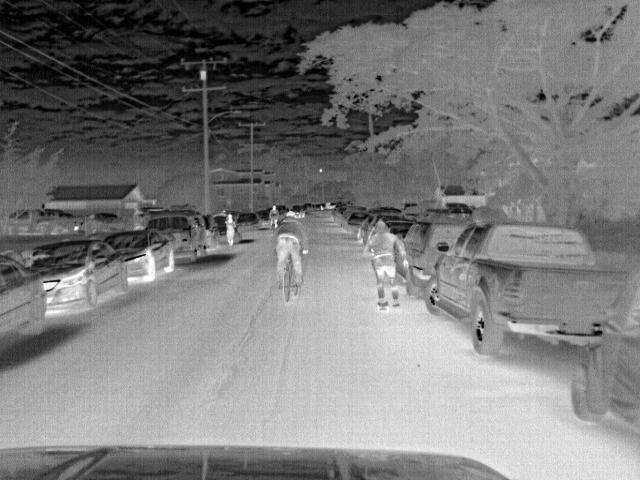car: (427, 224, 634, 355), (571, 301, 637, 436), (25, 239, 126, 318), (401, 214, 477, 293), (1, 256, 50, 358), (143, 210, 212, 266), (104, 230, 174, 284), (422, 201, 473, 221), (198, 213, 221, 249), (85, 212, 124, 233), (437, 206, 473, 224), (345, 212, 372, 231), (238, 211, 258, 232), (334, 205, 354, 225), (287, 204, 305, 220)
person: (366, 216, 411, 306), (273, 212, 309, 293), (223, 212, 237, 251), (266, 204, 281, 230)
